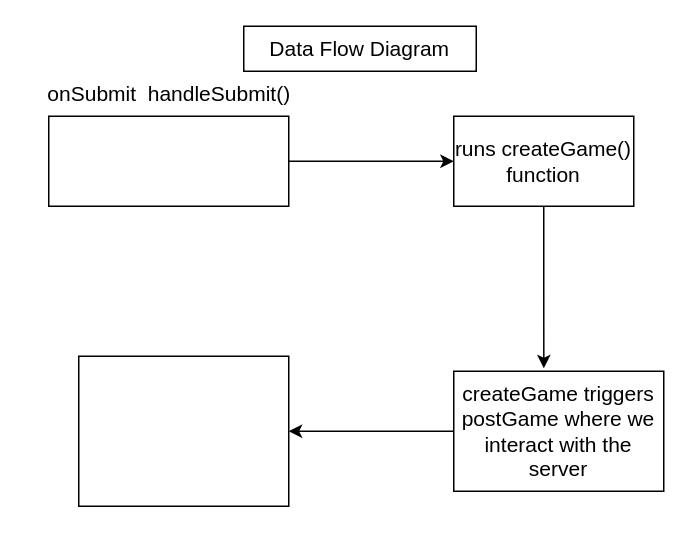
Image size: 690x533. Some labels were removed from this diagram. The shapes that lost their labels are listed below. From the top down, each one's centre as x and y in pixels, then its label:
At [168,160]: "Form Submission".
At [183,430]: "Takes the new game and adds it to the array of games using the setGames function".
